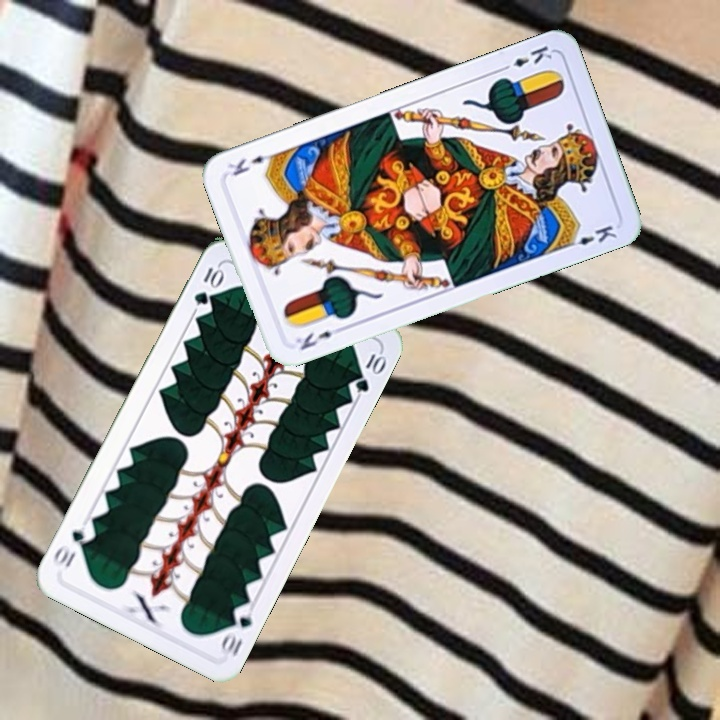EK: (496, 41, 555, 74), (291, 322, 346, 353)
G10: (217, 600, 256, 659), (189, 262, 226, 308)
